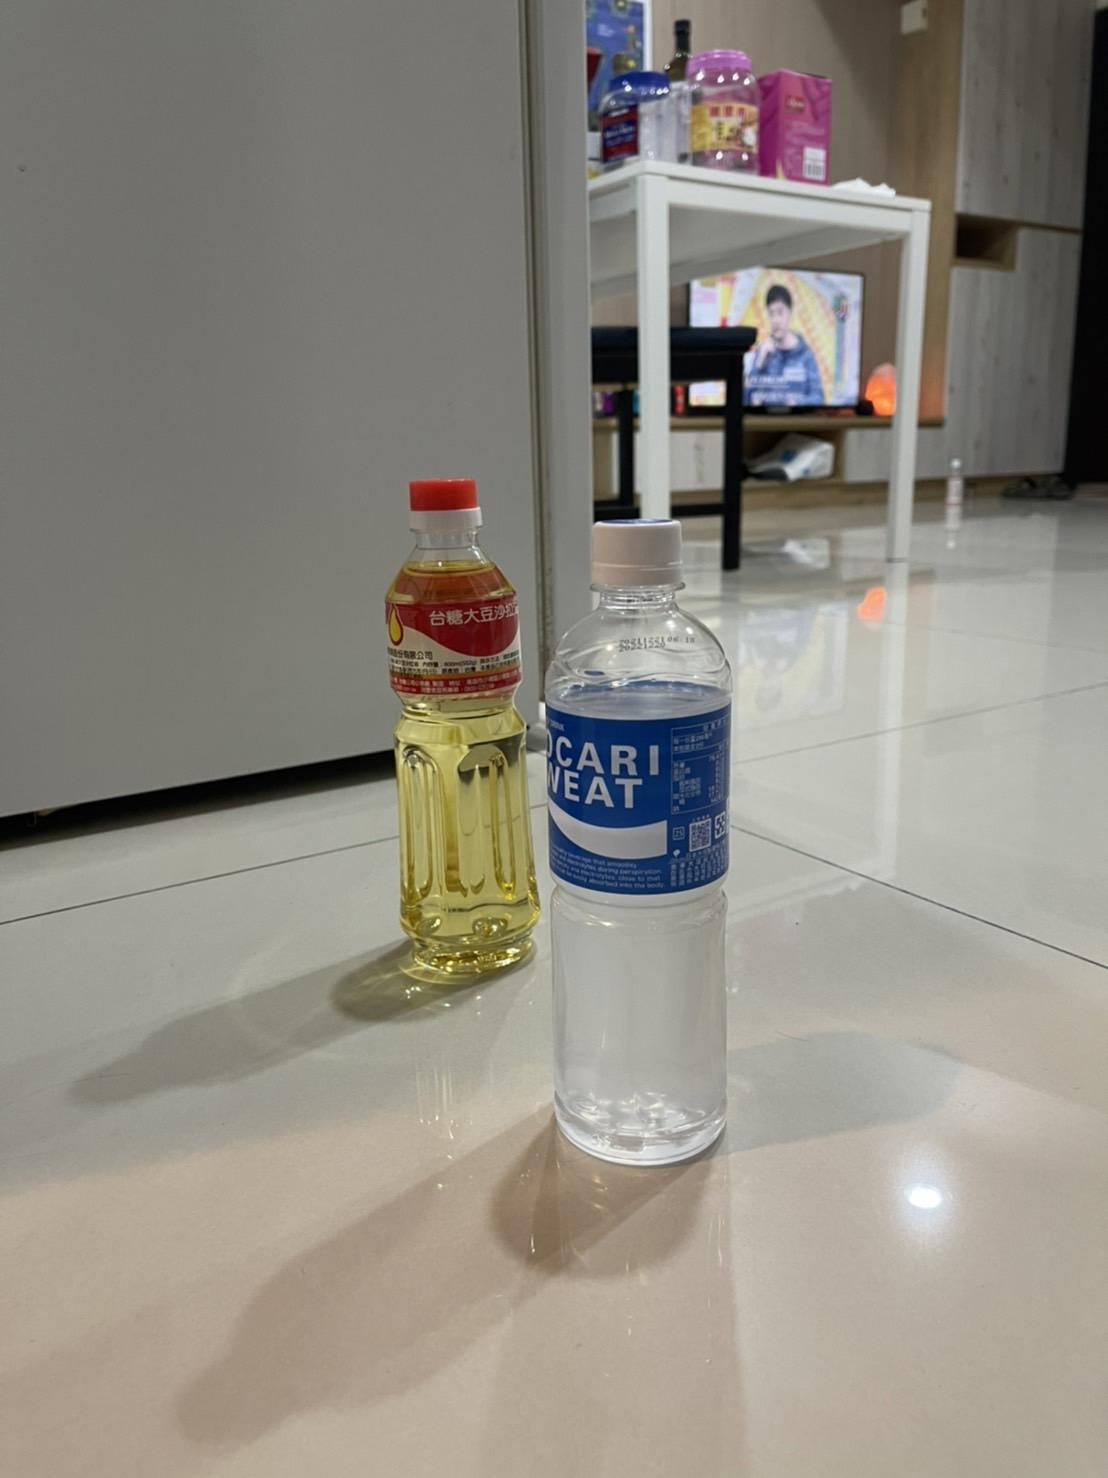bottle: (358, 460, 560, 993), (0, 0, 194, 449)
